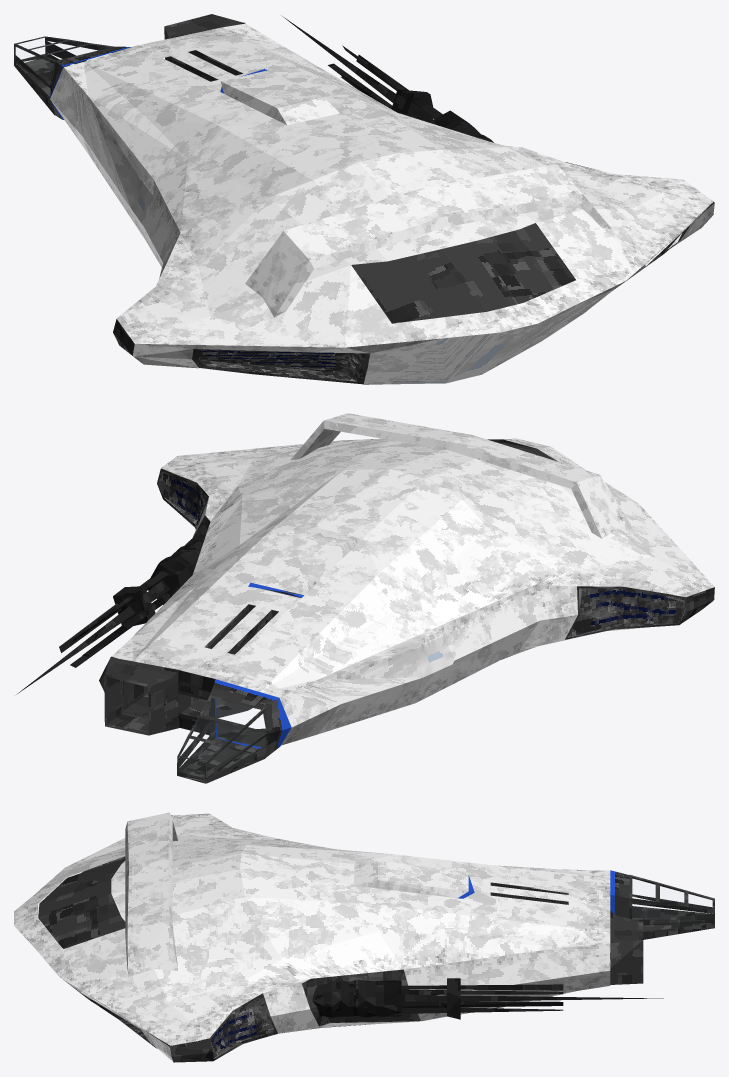
The model's file is CollisionF7.glb.
3 renders of one model, top to bottom at view 1: azimuth 30°, elevation 25°; view 2: azimuth 150°, elevation 25°; view 3: azimuth 270°, elevation 25°, orthographic. The views are drawn at different scales.
Visible parts, largest first — view 1: FrontWeaponShroud.004, FrontWeaponShroud.005, FrontWeaponShroud.001, FrontWeaponShroud.003, FrontWeaponShroud.002, FrontWeaponShroud.006; view 2: FrontWeaponShroud.005, FrontWeaponShroud.001, FrontWeaponShroud.004, FrontWeaponShroud.002, FrontWeaponShroud.003, FrontWeaponShroud.006; view 3: FrontWeaponShroud.004, FrontWeaponShroud.005, FrontWeaponShroud.001, FrontWeaponShroud.003, FrontWeaponShroud.002, FrontWeaponShroud.006.
Boxes of the visible parts, x1=… form: FrontWeaponShroud.004: x1=113, y1=150, x2=714, y2=384; FrontWeaponShroud.005: x1=131, y1=97, x2=615, y2=323; FrontWeaponShroud.001: x1=50, y1=23, x2=447, y2=316; FrontWeaponShroud.003: x1=282, y1=16, x2=493, y2=142; FrontWeaponShroud.002: x1=14, y1=36, x2=130, y2=119; FrontWeaponShroud.006: x1=164, y1=14, x2=245, y2=61; FrontWeaponShroud.005: x1=192, y1=441, x2=650, y2=702; FrontWeaponShroud.001: x1=111, y1=527, x2=430, y2=750; FrontWeaponShroud.004: x1=157, y1=413, x2=714, y2=631; FrontWeaponShroud.002: x1=177, y1=679, x2=291, y2=783; FrontWeaponShroud.003: x1=16, y1=534, x2=206, y2=694; FrontWeaponShroud.006: x1=99, y1=656, x2=178, y2=735; FrontWeaponShroud.004: x1=14, y1=812, x2=244, y2=1062; FrontWeaponShroud.005: x1=111, y1=828, x2=420, y2=1043; FrontWeaponShroud.001: x1=353, y1=854, x2=610, y2=1022; FrontWeaponShroud.003: x1=312, y1=978, x2=663, y2=1019; FrontWeaponShroud.002: x1=610, y1=870, x2=714, y2=939; FrontWeaponShroud.006: x1=609, y1=911, x2=643, y2=984.
Bounding box in the file's own units: 47.91 × 14.74 × 61.51.
Materials: 4 (3 with a texture image).
